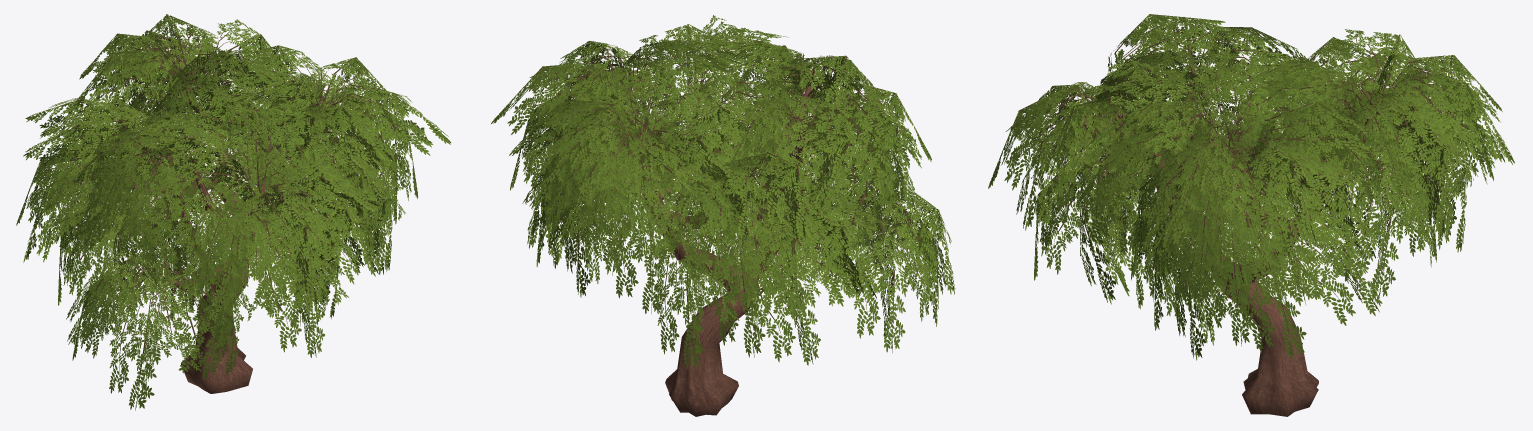
The model's file is trees_0.fbx.
3 renders of one model, left to right at view 1: azimuth 30°, elevation 25°; view 2: azimuth 150°, elevation 25°; view 3: azimuth 270°, elevation 25°, orthographic. The views are drawn at different scales.
Visible parts, largest first — view 1: treebrown2_leaves.001, treebrown_002; view 2: treebrown2_leaves.001, treebrown_002; view 3: treebrown2_leaves.001, treebrown_002.
Boxes of the visible parts, x1=… form: treebrown2_leaves.001: x1=16, y1=14, x2=450, y2=410; treebrown_002: x1=127, y1=64, x2=318, y2=393; treebrown2_leaves.001: x1=491, y1=15, x2=955, y2=370; treebrown_002: x1=627, y1=70, x2=865, y2=416; treebrown2_leaves.001: x1=988, y1=14, x2=1514, y2=360; treebrown_002: x1=1100, y1=46, x2=1375, y2=416.
Bounding box in the file's own units: 11.61 × 9.01 × 12.23.
